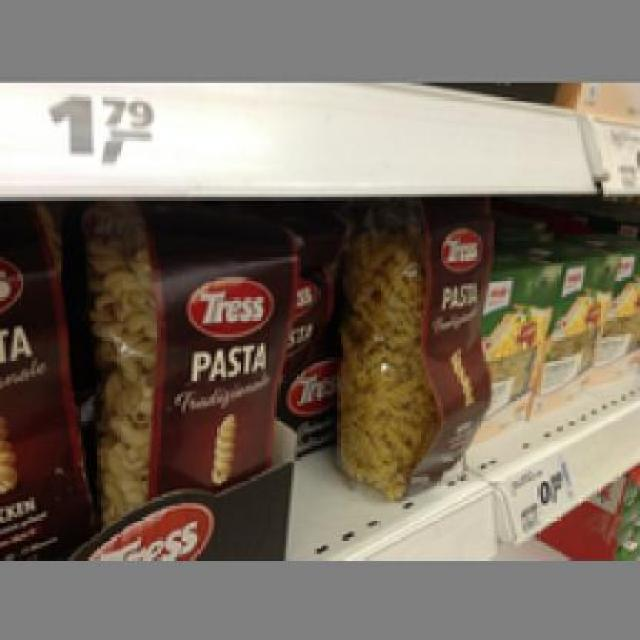Pasta: (80, 200, 297, 520), (328, 200, 486, 500)
